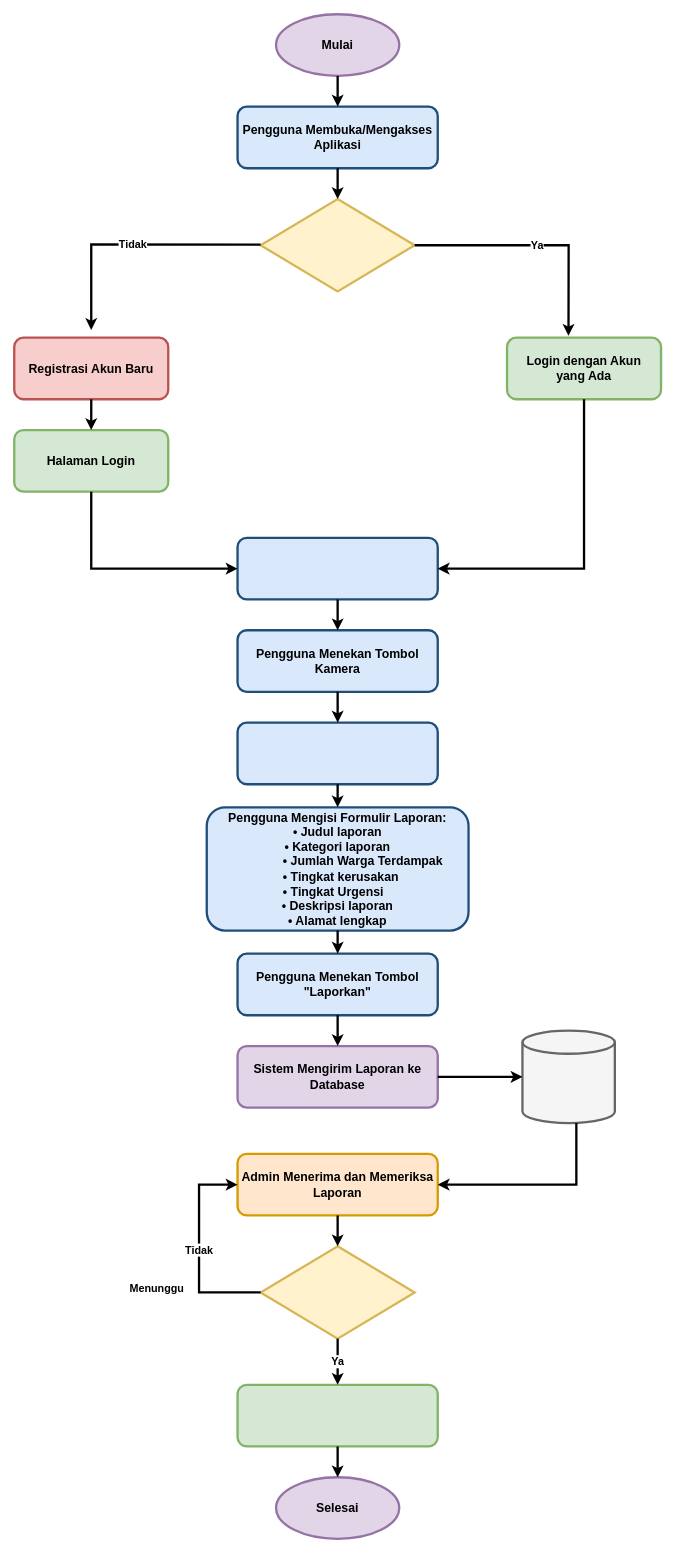
Some shapes in this 675 by 1553 pixel diagram are drawn without their labels. The shapes that lost their labels are listed below. From the top down, each one's centre as x and y in pixels, then its label:
At (x=337, y=245): "Sudah memiliki akun?".
At (x=337, y=568): "Berhasil Masuk ke Aplikasi".
At (x=337, y=753): "Pengguna Mengambil Foto sebagai Bukti Laporan".
At (x=568, y=1076): "Database".
At (x=337, y=1292): "Laporan Sudah Ditangani/Selesai?".
At (x=337, y=1415): "Pengguna Memberikan Feedback/Umpan Balik".
